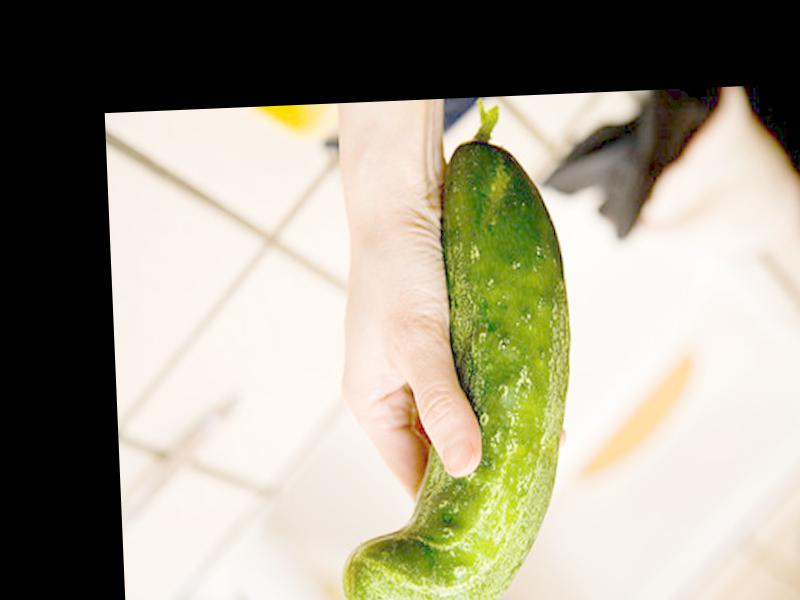Cucumber: (323, 102, 584, 600)
